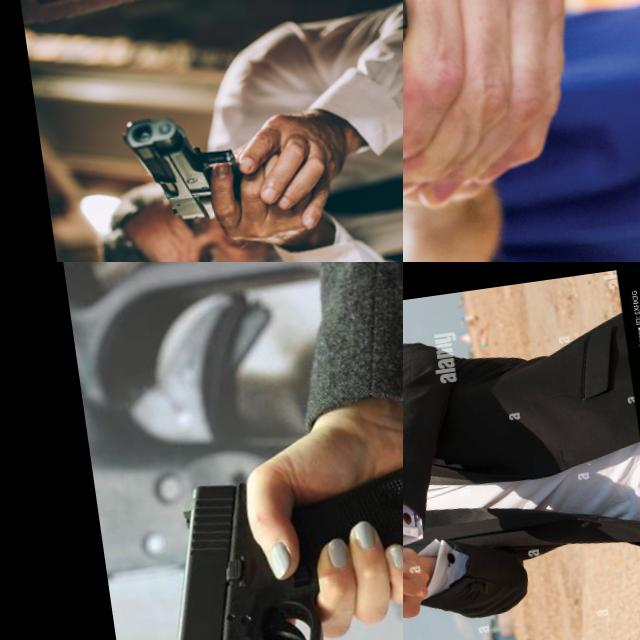handgun: (98, 468, 354, 640), (118, 103, 249, 231), (403, 0, 520, 138), (403, 576, 452, 640)
